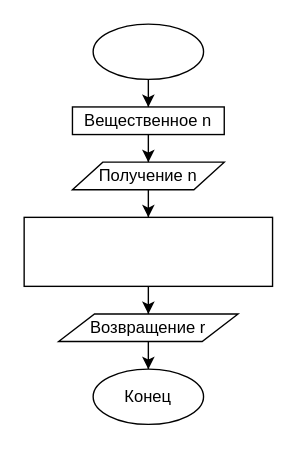
Some shapes in this 297 by 449 pixel diagram are drawn without their labels. The box of each missing label's shape, as (x1, y1, x2, y2) in pixels:
Выделяем помять под 2 целых числа, храним в указателе r r[0] = n; r[1] = n + 1;: (23, 216, 273, 286)
Начало: (92, 23, 204, 79)
